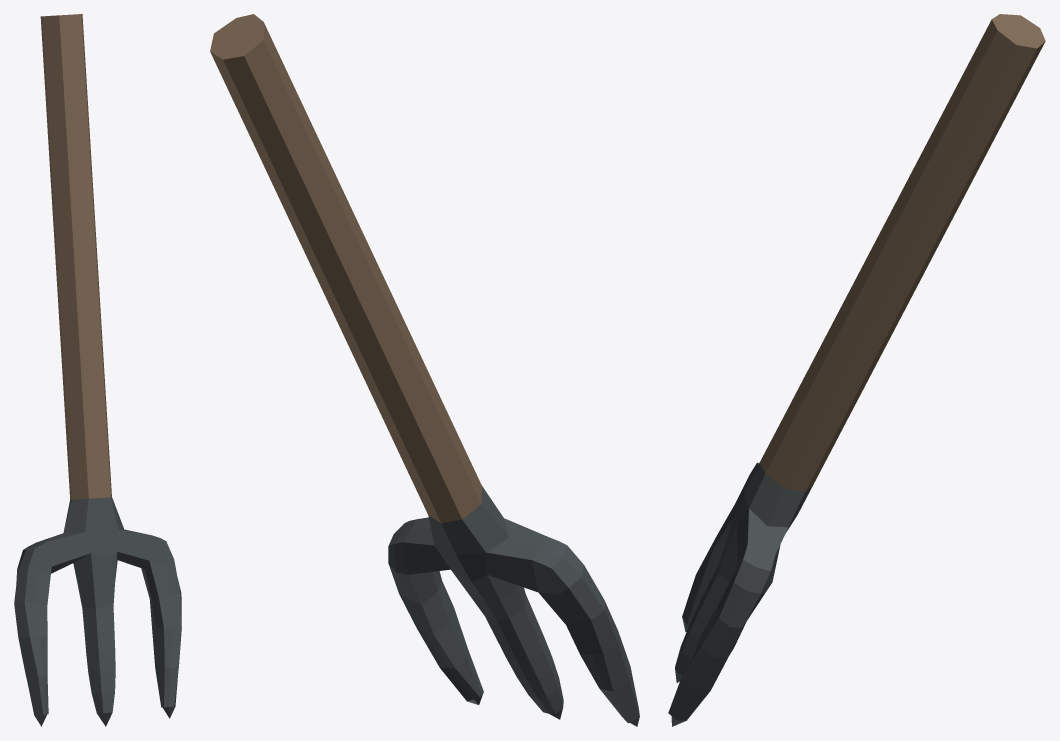
File: Fork_2.glb
3 views of the same model, side by side, from view 1: azimuth 30°, elevation 25°; view 2: azimuth 150°, elevation 25°; view 3: azimuth 270°, elevation 25° (orthographic). The views are drawn at different scales.
Parts seen in each view (by area): view 1: Fork; view 2: Fork; view 3: Fork.
Boxes of the visible parts, box(x1,y1,x2,y2) form: Fork: box(14, 14, 181, 726); Fork: box(210, 14, 639, 726); Fork: box(668, 14, 1045, 726).
Bounding box in the file's own units: 0.3802 × 1.2 × 0.5623.
